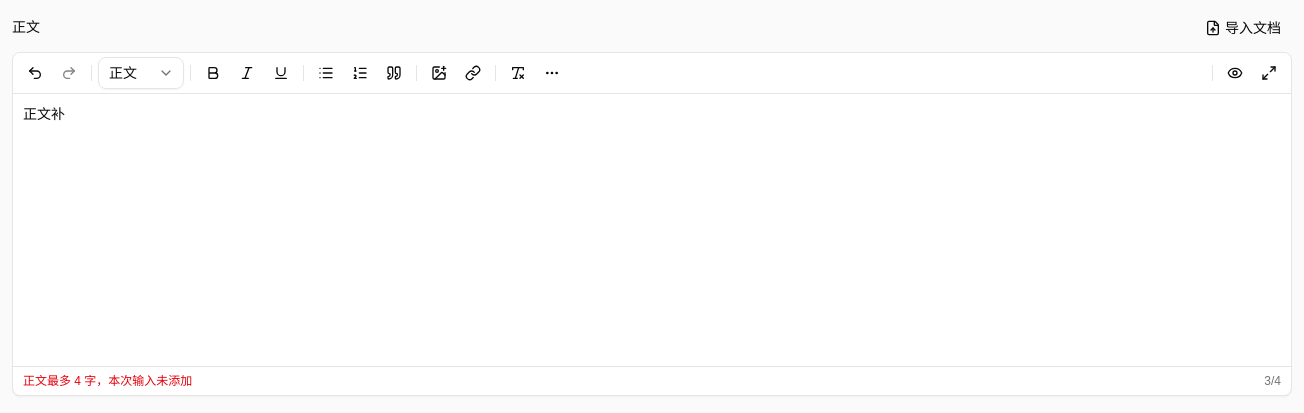
Scenario: rejects over-limit input without resetting the document or losing undo history
Click the button named "撤销" at (35, 73), box 19,57 -> 51,89
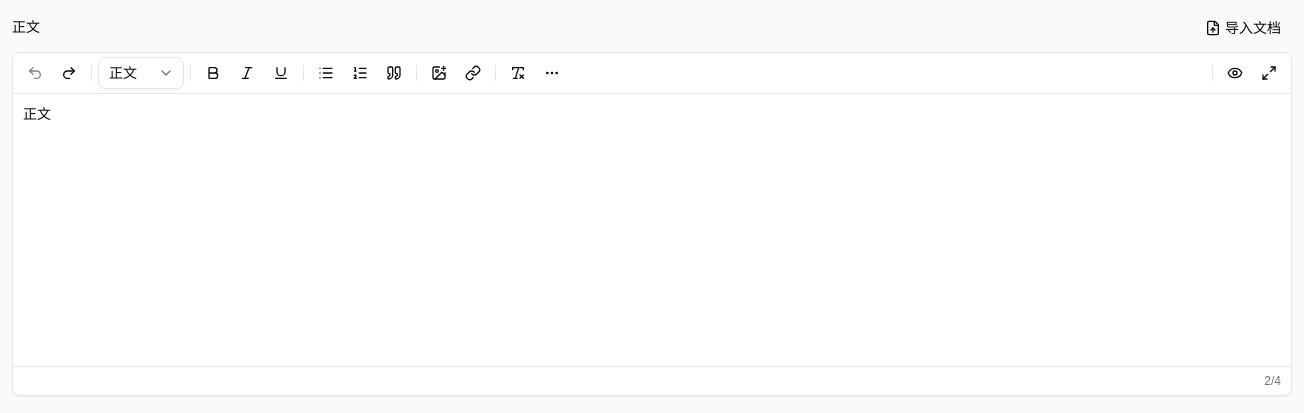
Click the button named "重做" at (69, 73), box 53,57 -> 85,89
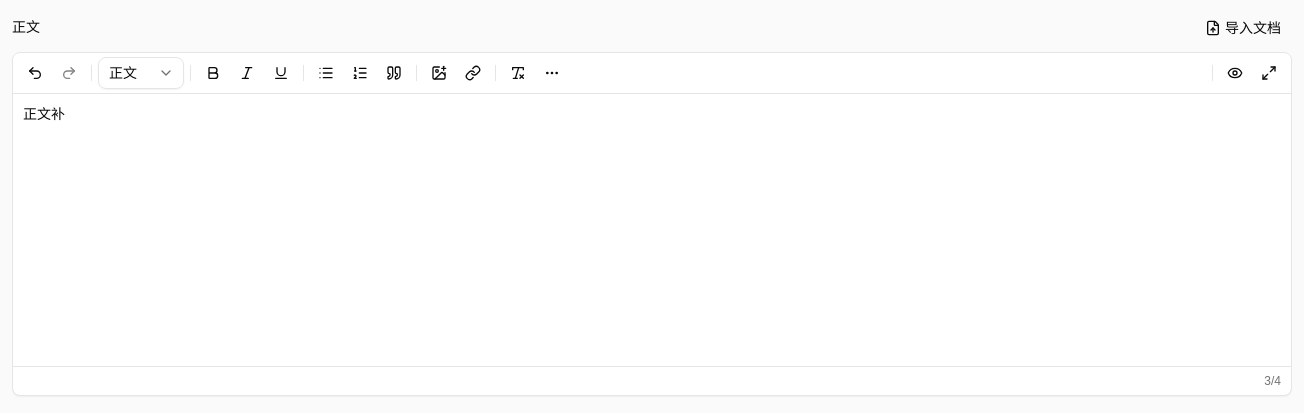
Now the text box labelled "正文补" is shown, box 23,106 -> 65,122
